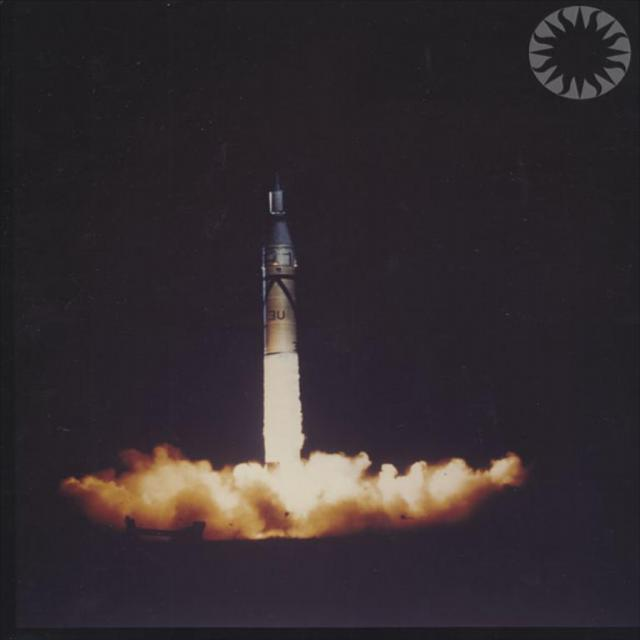missile: (254, 168, 313, 360)
